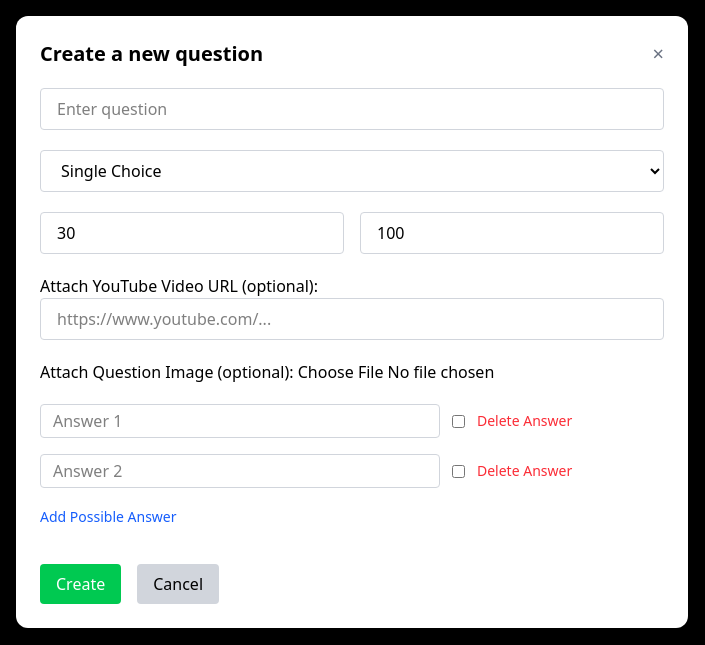
create a new question test › has fixed answer true/false when switching to judgement question
Select "Judgement" in the dropdown showing "Single Choice". click: [352, 171]
box: [40,150,664,192]
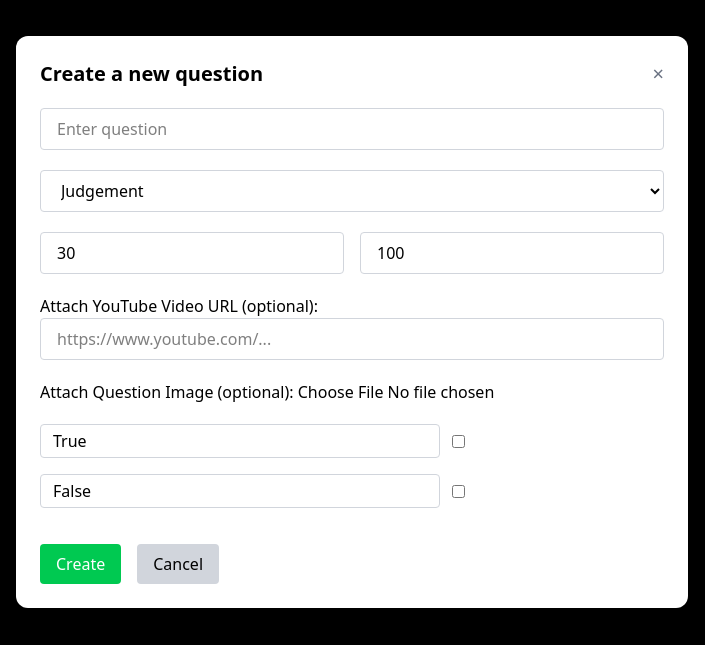
expect the 1st field with placeholder "Answer 1" holds "True": met, box [40,424,440,458]
expect the 2nd field with placeholder "Answer 2" holds "False": met, box [40,474,440,508]
